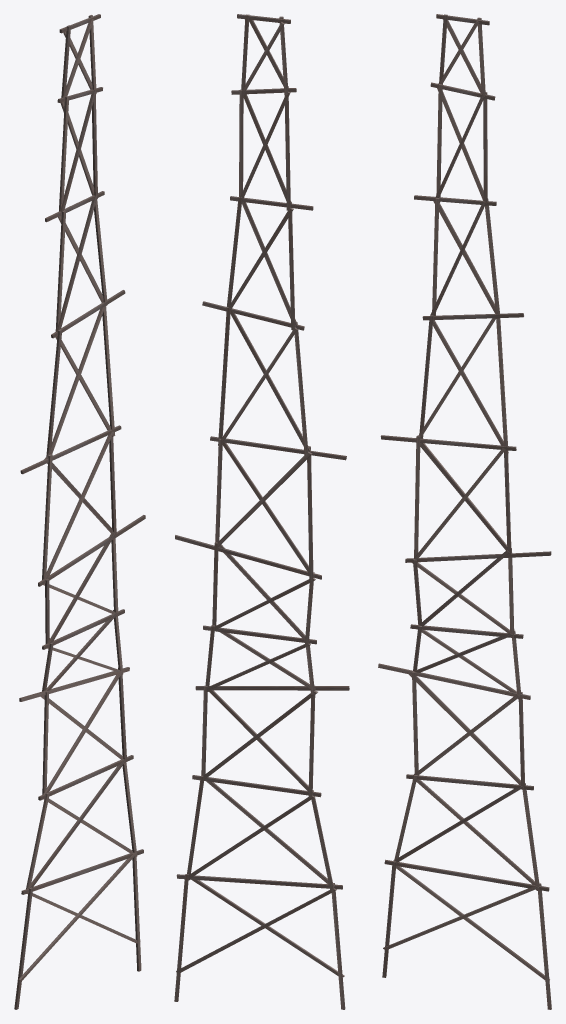
The model's file is pylon_002.fbx.
The picture shows the model from 3 angles, left to right: view 1: azimuth 30°, elevation 25°; view 2: azimuth 150°, elevation 25°; view 3: azimuth 330°, elevation 25°; orthographic projection.
Visible parts, largest first — view 1: pylon.002; view 2: pylon.002; view 3: pylon.002.
Boxes of the visible parts, x1,y1,x2,y2 form: pylon.002: (14, 14, 145, 1009); pylon.002: (174, 14, 349, 1009); pylon.002: (378, 14, 551, 1009).
Bounding box in the file's own units: 243 × 1521 × 76.26.
